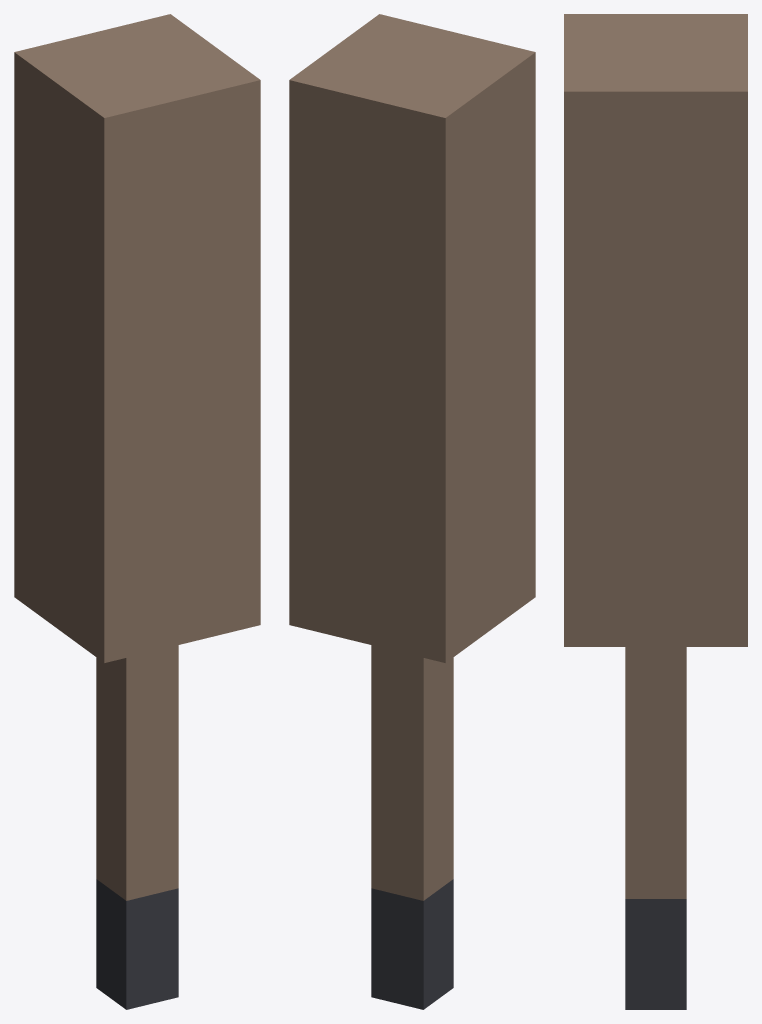
File: batte.glb
3 views of the same model, side by side, from view 1: azimuth 30°, elevation 25°; view 2: azimuth 150°, elevation 25°; view 3: azimuth 270°, elevation 25° (orthographic).
Parts seen in each view (by area): view 1: main; view 2: main; view 3: main.
Boxes of the visible parts, x1,y1,x2,y2 form: main: (14,14,260,1009); main: (289,14,535,1009); main: (564,14,747,1009).
Size of the model in its own units: 0.1875 by 1.06 by 0.1875.
